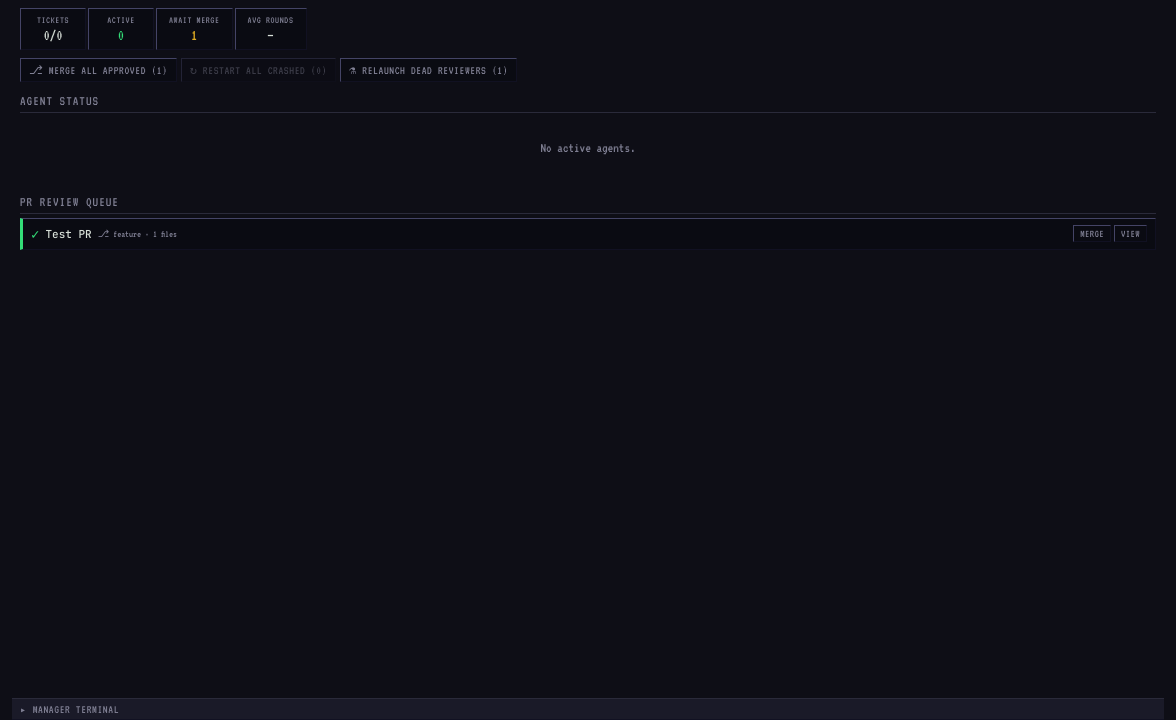
Test case: ManagerView › Exception Handling › catches rejected promise in handleMerge and shows error
Click the button "MERGE": (1092, 234) x1=1073 y1=225 x2=1111 y2=242
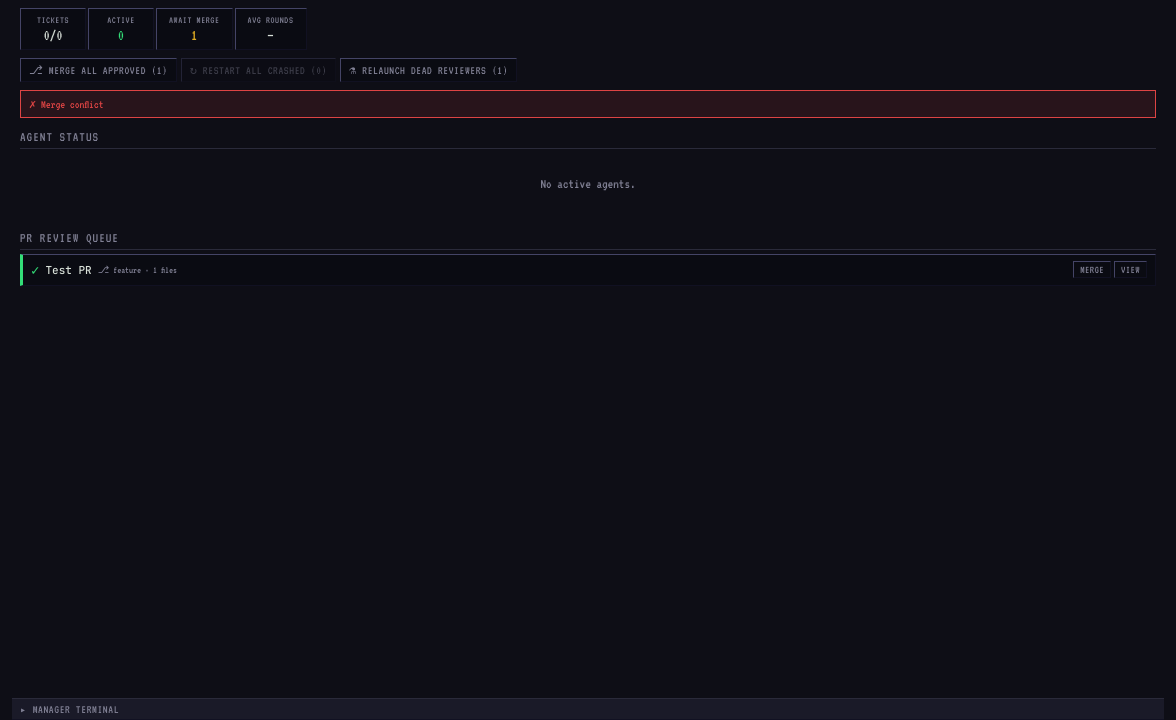
Expected: the text "✗ Merge conflict" is shown, x1=20 y1=90 x2=1156 y2=118
